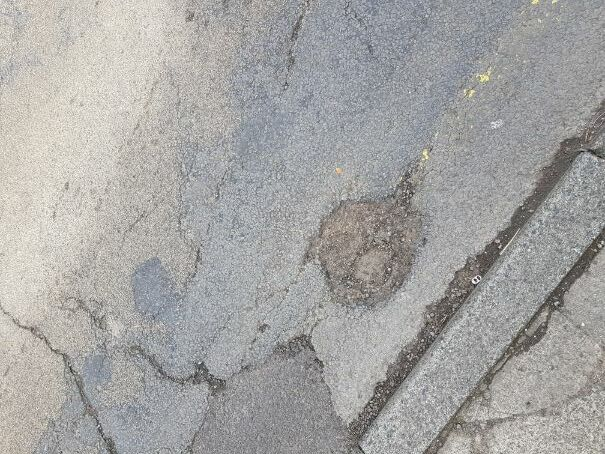pothole: (295, 157, 430, 312)
